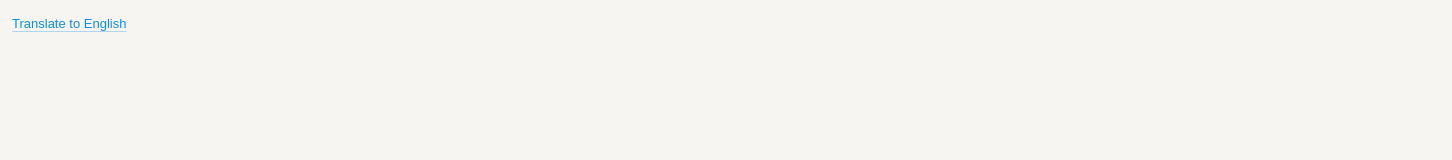
it: ContentTranslation › clicking translate calls the service and shows translation BELOW the original
The width and height of the screenshot is (1452, 160).
Click the button "Translate to English". click: coordinates (69, 24)
box: [12,10,126,39]
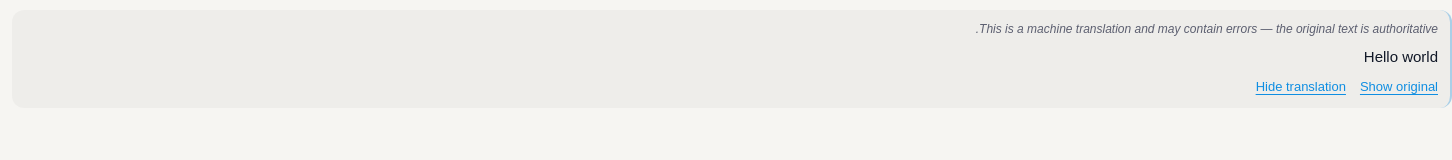
Expected: the text "Hello world" is shown, [1364,48,1438,65]
Expected: the button "Translate to English" is gone
Expected: the button "Show original" is shown, [1360,77,1438,98]
